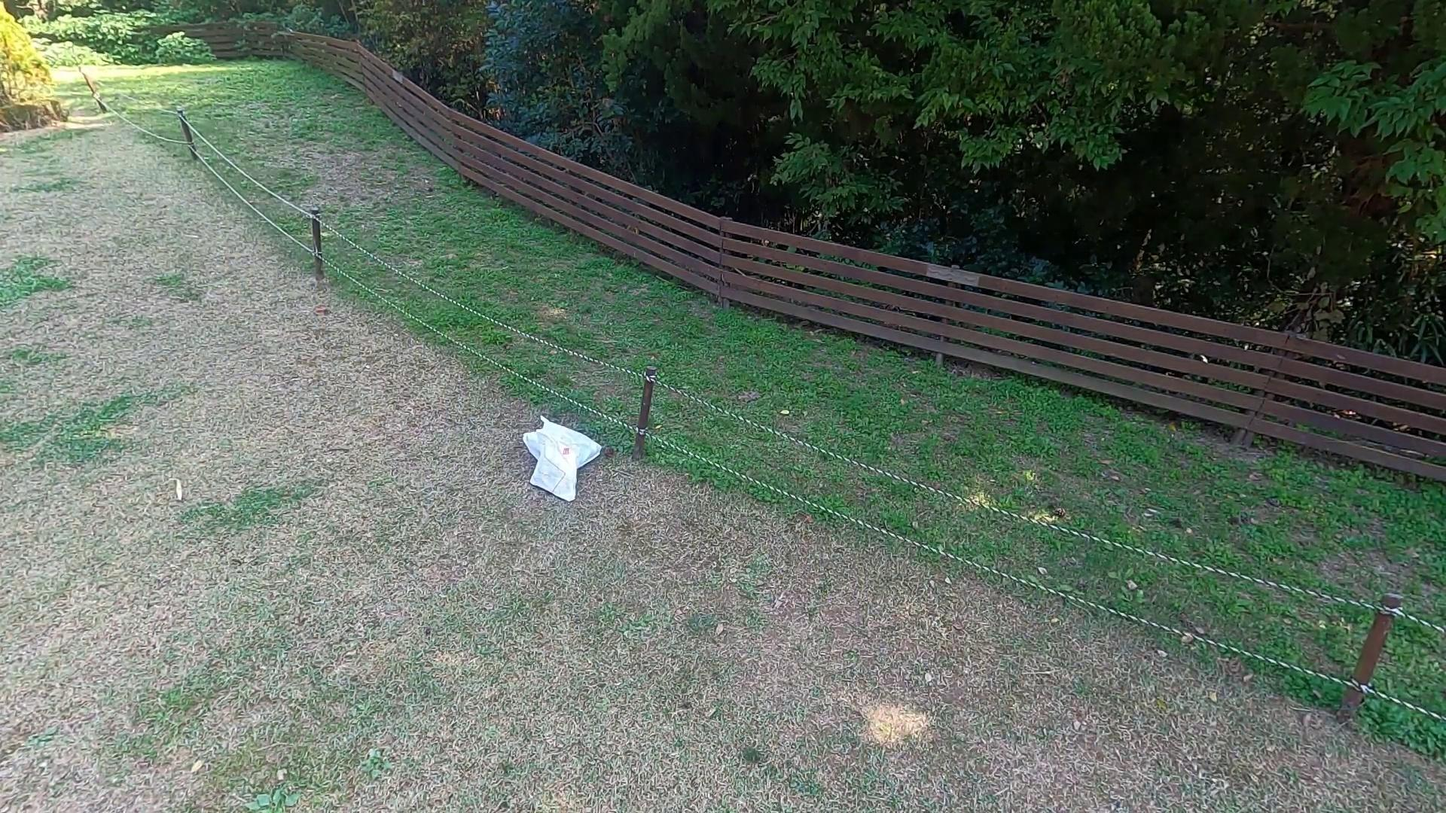trash: (520, 408, 601, 474), (529, 442, 588, 500)
